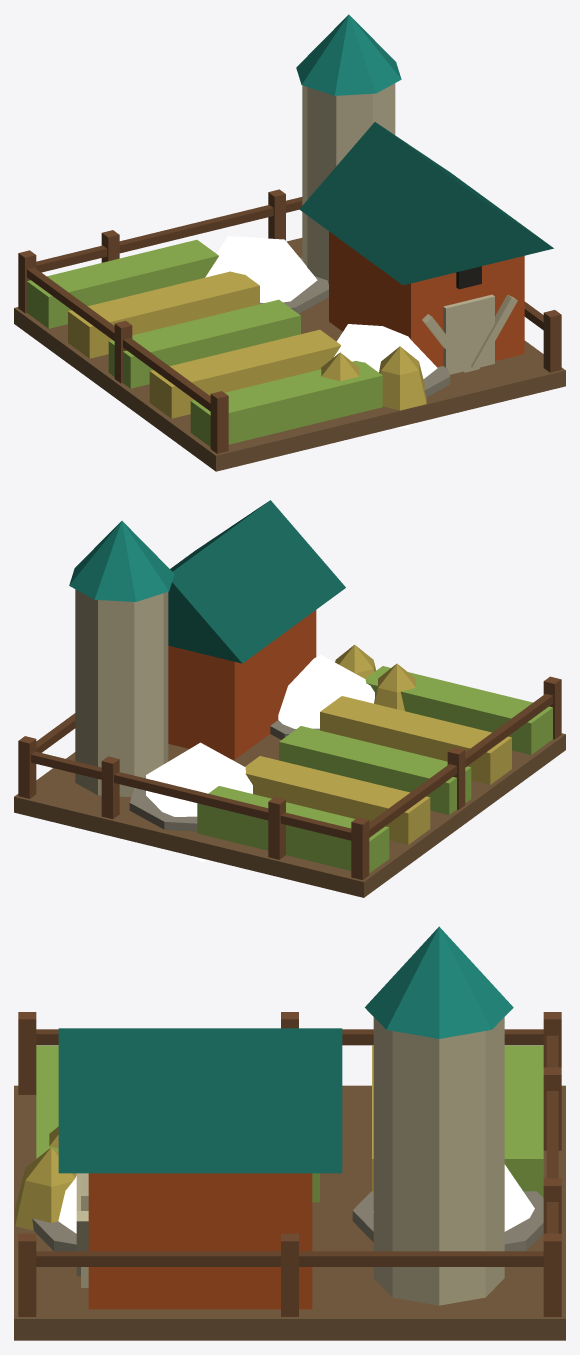
The model's file is farm_t3.glb.
The picture shows the model from 3 angles, top to bottom: view 1: azimuth 30°, elevation 25°; view 2: azimuth 150°, elevation 25°; view 3: azimuth 270°, elevation 25°; orthographic projection. The views are drawn at different scales.
Visible parts, largest first — view 1: body, glow; view 2: body, glow; view 3: body, glow.
Part boxes in pixels (bbox=[...]): body: bbox=[14, 14, 565, 471]; glow: bbox=[205, 236, 437, 428]; body: bbox=[14, 500, 565, 897]; glow: bbox=[146, 654, 374, 862]; body: bbox=[14, 926, 565, 1340]; glow: bbox=[58, 1164, 534, 1233].
Bounding box in the file's own units: 1.88 × 1.53 × 1.85.
